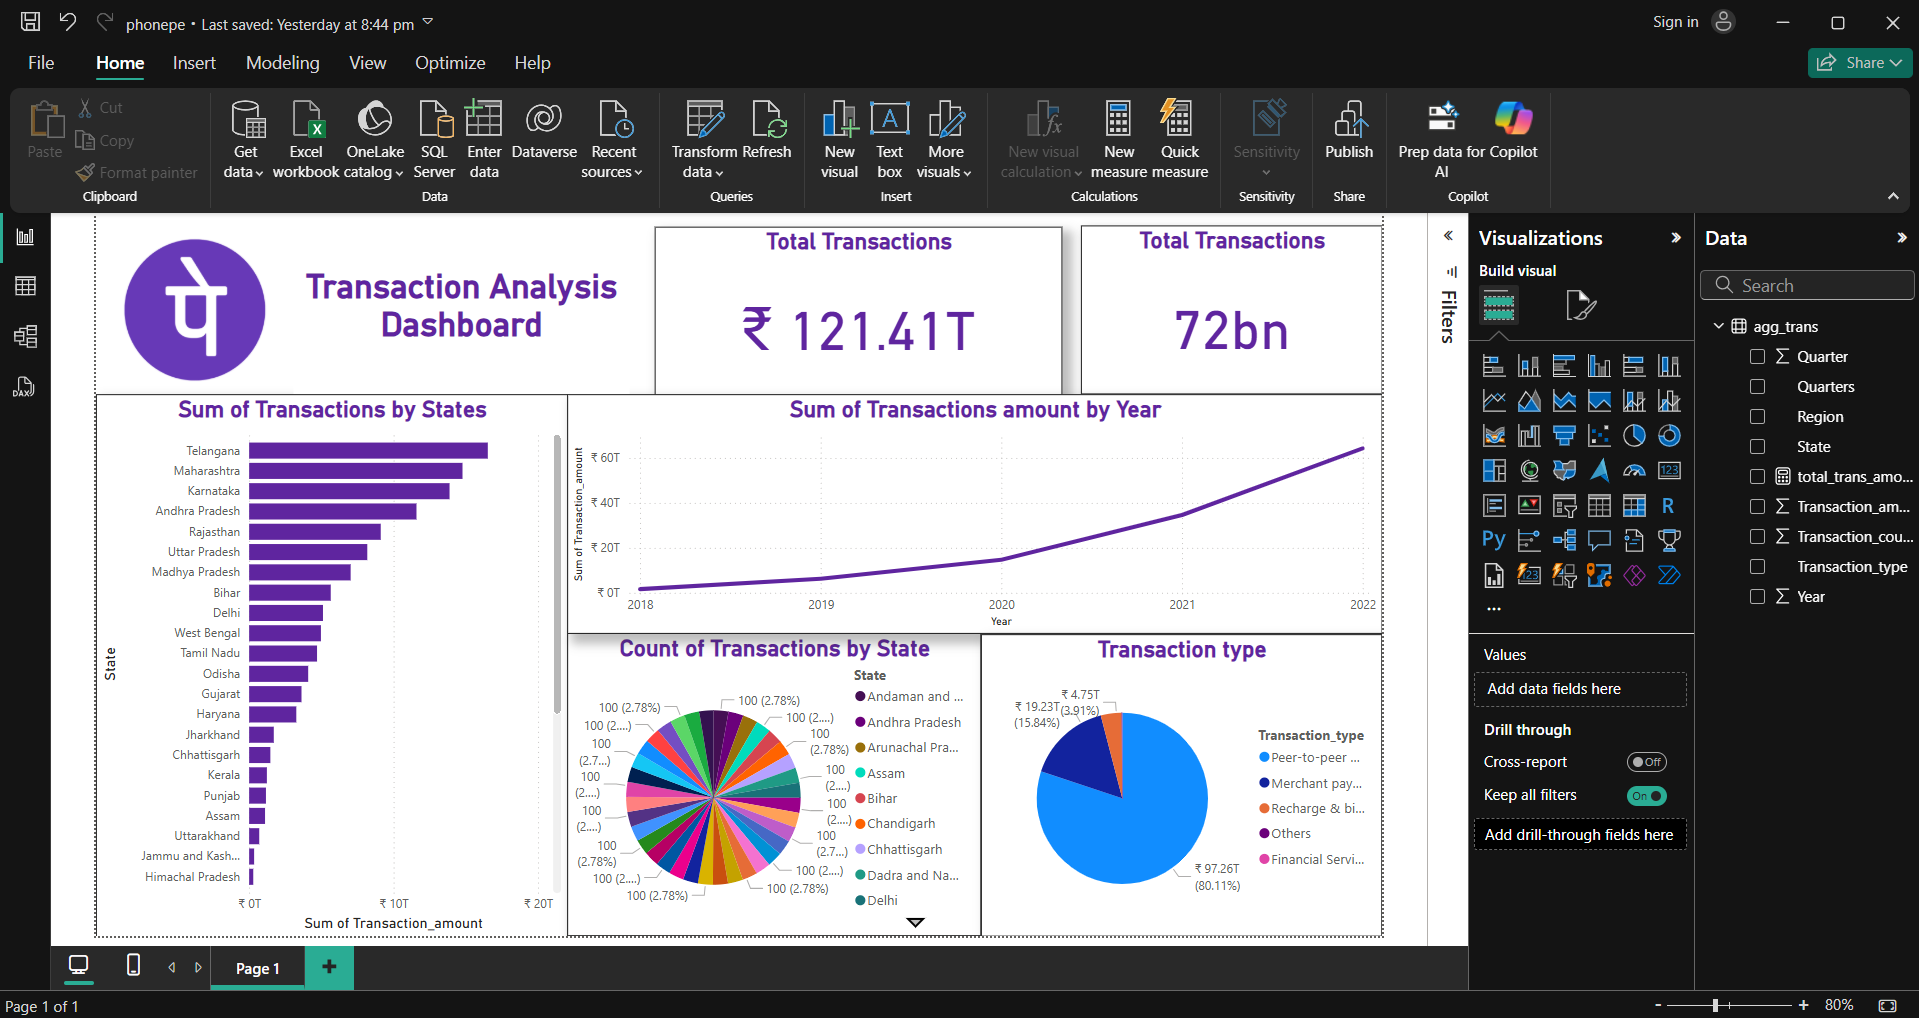

What the dashboard file says about the page in this screenshot:
{"tool":"powerbi","page":{"name":"Page 1","canvas":[1280,720],"ordinal":0},"visuals":[{"type":"card","title":"Total Transactions","fields":{"Values":["agg_trans.total_trans_amount"]},"box":[556,13.7,405.5,167.9],"z":0},{"type":"card","title":"Total Transactions","fields":{"Values":["Sum(agg_trans.Transaction_count)"]},"box":[980.2,12.4,299.8,167.9],"z":1000},{"type":"barChart","title":"Sum of Transactions by States","fields":{"Category":["agg_trans.State"],"Y":["Sum(agg_trans.Transaction_amount)"]},"box":[0,179.8,469.3,540.7],"z":2000},{"type":"pieChart","title":"Count of Transactions by State","fields":{"Category":["agg_trans.State"],"Y":["CountNonNull(agg_trans.Transaction_type)"]},"box":[469.3,418.5,411.7,301.9],"z":3000},{"type":"lineChart","title":"Sum of Transactions amount by Year","fields":{"Y":["Sum(agg_trans.Transaction_amount)"],"Category":["agg_trans.Year"]},"box":[469.3,179.8,811,238.8],"z":4000},{"type":"pieChart","title":"Transaction type","fields":{"Category":["agg_trans.Transaction_type"],"Y":["Sum(agg_trans.Transaction_amount)"]},"box":[881,419,399,301],"z":5000},{"type":"image","box":[0,12.4,196.5,167.9],"z":6000},{"type":"textbox","box":[196.5,13.7,334.6,166.7],"z":7000}]}

Visuals, with their boxes on the page's 1280x720 design canvas (x1, y1, x2, y2). These are canvas units, not pixel positions in the 1919x1018 screenshot, which may show the page scaled, cropped or inside an application window:
"Total Transactions" card: bbox=[556, 14, 962, 182]
"Total Transactions" card: bbox=[980, 12, 1280, 180]
"Sum of Transactions by States" barChart: bbox=[0, 180, 469, 720]
"Count of Transactions by State" pieChart: bbox=[469, 418, 881, 720]
"Sum of Transactions amount by Year" lineChart: bbox=[469, 180, 1280, 419]
"Transaction type" pieChart: bbox=[881, 419, 1280, 720]
image: bbox=[0, 12, 196, 180]
textbox: bbox=[196, 14, 531, 180]
